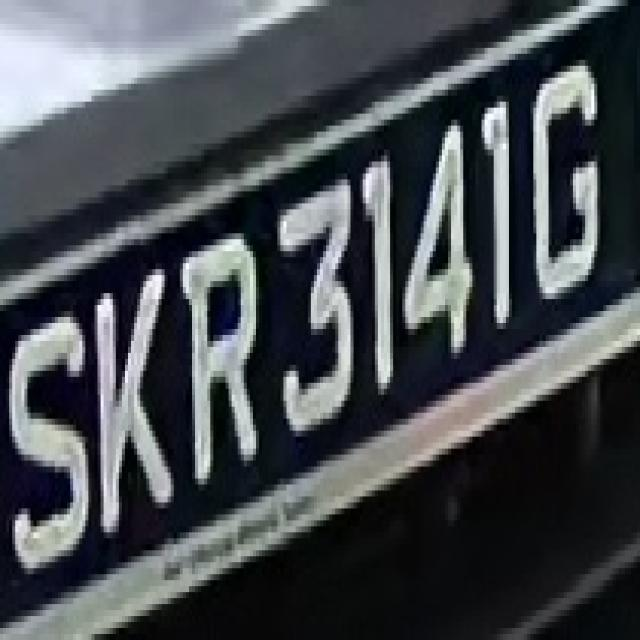1: (482, 60, 527, 353), (363, 132, 402, 436)
3: (262, 174, 360, 442)
4: (396, 96, 482, 371)
G: (527, 42, 613, 311)
K: (91, 240, 174, 544)
R: (174, 215, 274, 490)
S: (3, 281, 101, 586)
